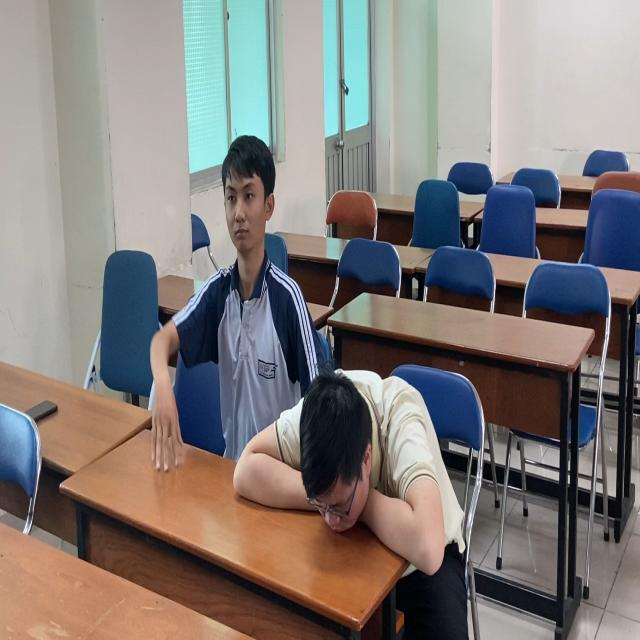sleep: (236, 359, 469, 565)
